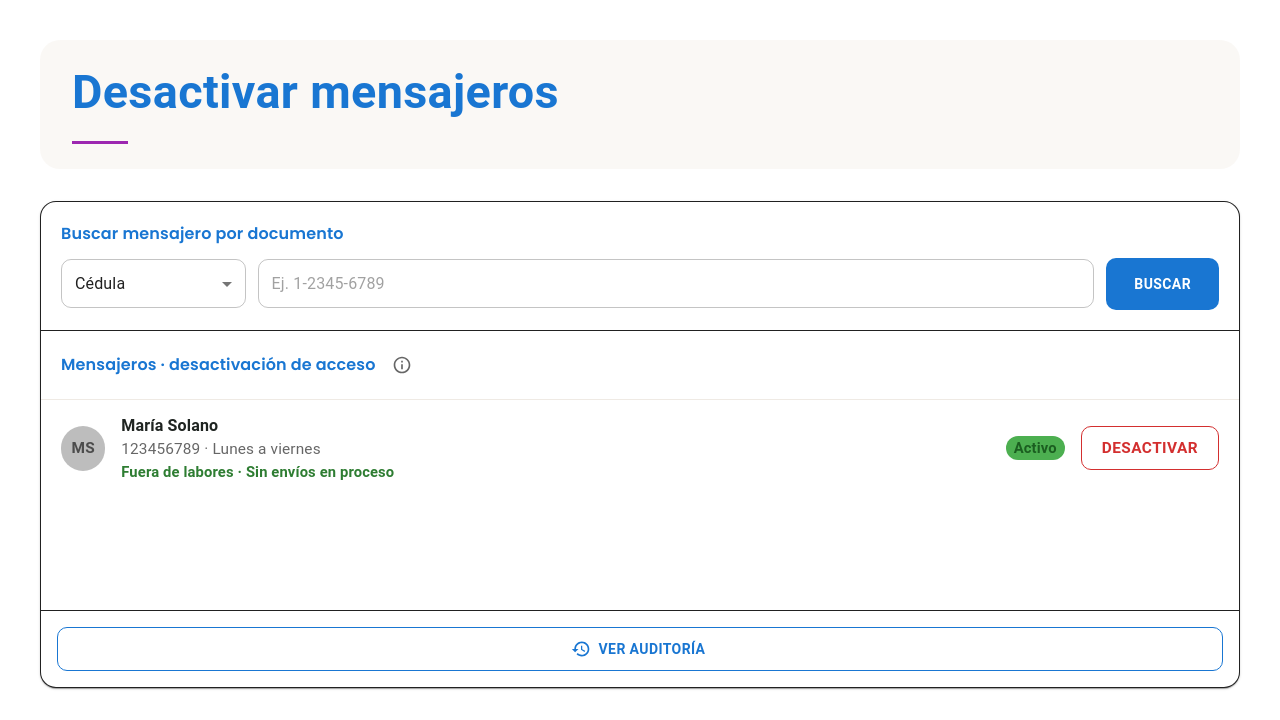
Test: MessengerFleetList (HU-005 desactivar mensajero) › muestra al abrir la pantalla las desactivaciones guardadas aunque el mensajero ya esté activo
This screenshot has width=1280, height=720.
Expected: the button "Desactivar" is shown, [1081, 426, 1219, 470]
Step 1. Click the button "Ver auditoría" → (640, 649), box [57, 627, 1223, 671]
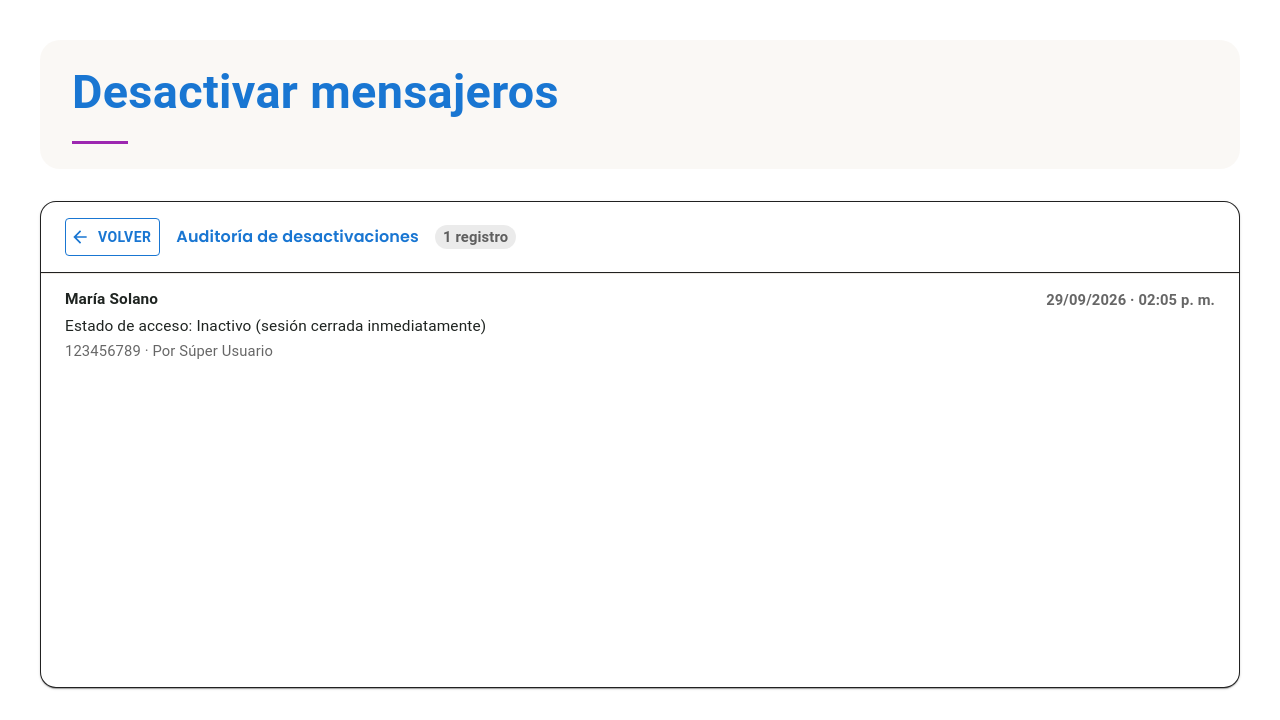
Expected: the text "Por Súper Usuario" is shown, [152, 342, 273, 360]
Expected: the text "1 registro" is shown, [443, 228, 508, 246]
